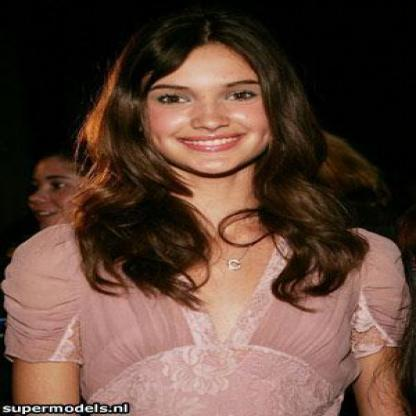long-hair: (62, 180, 338, 228)
